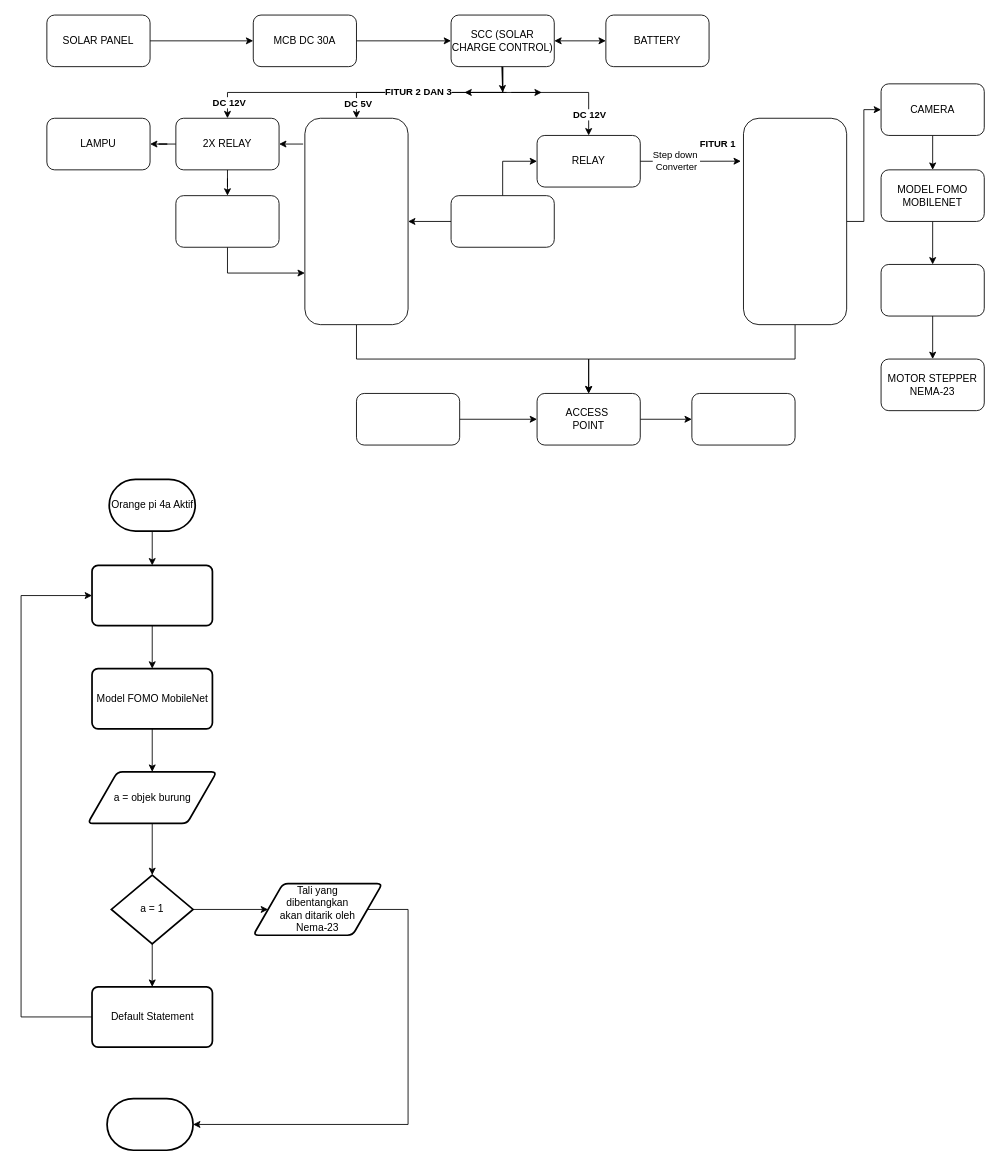
Image size: 999x1166. Some labels were removed from this diagram. Each missing label, with the box of its shape:
Camera/Computer Vision: (91, 564, 213, 626)
DRIVER TB6600: (880, 264, 984, 316)
end: (106, 1097, 194, 1151)
ESP-32: (304, 117, 408, 325)
LDR SENSOR: (450, 195, 554, 247)
NPK 7IN1 SENSOR: (175, 195, 279, 247)
ORANGE PI 4A: (743, 117, 847, 325)
USER: (356, 393, 460, 445)
WEB SERVER: (691, 393, 795, 445)
